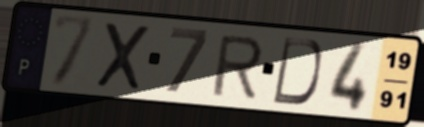4: (326, 38, 371, 114)
7: (51, 11, 100, 91), (162, 24, 213, 97)
D: (269, 35, 325, 108)
R: (208, 33, 266, 100)
X: (92, 18, 153, 94)
